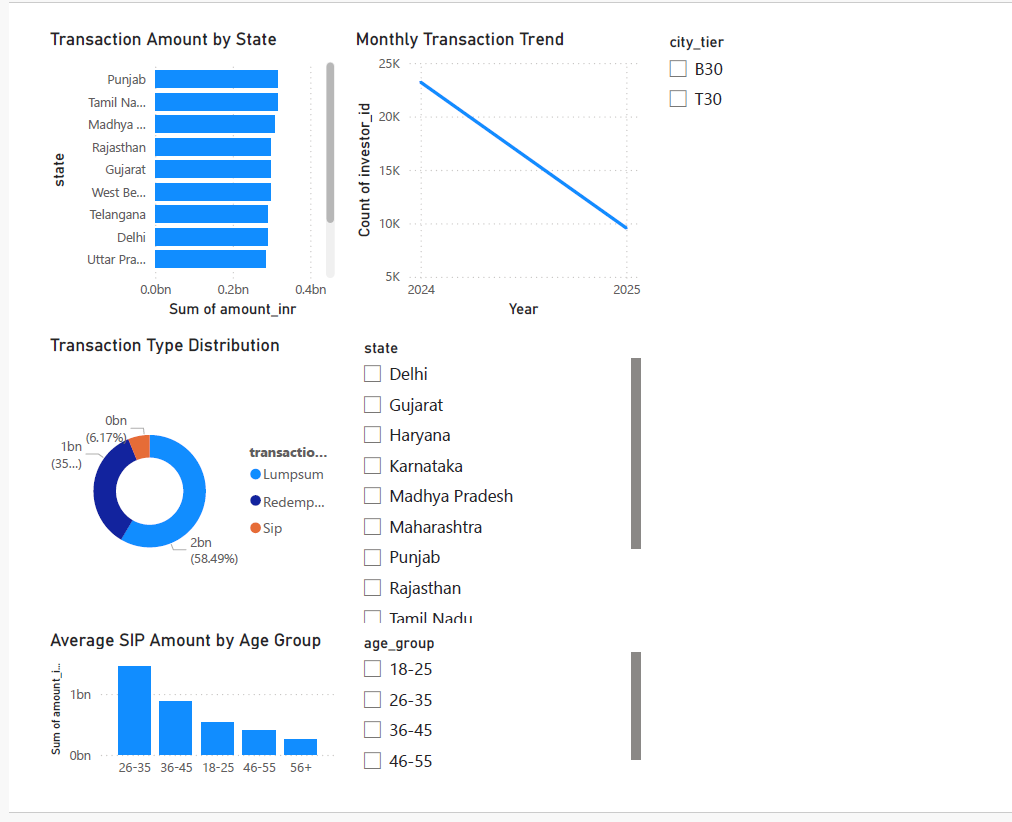

What the dashboard file says about the page in this screenshot:
{"tool":"powerbi","page":{"name":"Investor Analytics","canvas":[1280,720],"ordinal":2},"visuals":[{"type":"clusteredBarChart","title":"Transaction Amount by State","fields":{"Category":["investor_transactions_clean.state"],"Y":["Sum(investor_transactions_clean.amount_inr)"]},"box":[10,0,280,280],"z":0},{"type":"donutChart","title":"Transaction Type Distribution","fields":{"Category":["investor_transactions_clean.transaction_type"],"Y":["Sum(investor_transactions_clean.amount_inr)"]},"box":[10,290,280,280],"z":1},{"type":"clusteredColumnChart","title":"Average SIP Amount by Age Group","fields":{"Category":["investor_transactions_clean.age_group"],"Y":["Sum(investor_transactions_clean.amount_inr)"]},"box":[10,570,280,150],"z":2},{"type":"lineChart","title":"Monthly Transaction Trend","fields":{"Category":["investor_transactions_clean.transaction_date.Variation.Date Hierarchy.Year","investor_transactions_clean.transaction_date.Variation.Date Hierarchy.Quarter","investor_transactions_clean.transaction_date.Variation.Date Hierarchy.Month","investor_transactions_clean.transaction_date.Variation.Date Hierarchy.Day"],"Y":["CountNonNull(investor_transactions_clean.investor_id)"]},"box":[300,0,280,280],"z":3},{"type":"slicer","fields":{"Values":["investor_transactions_clean.state"]},"box":[300,290,280,280],"z":4},{"type":"slicer","fields":{"Values":["investor_transactions_clean.age_group"]},"box":[300,570,280,150],"z":5},{"type":"slicer","fields":{"Values":["investor_transactions_clean.city_tier"]},"box":[590,0,280,280],"z":6}]}

Visuals, with their boxes on the page's 1280x720 design canvas (x1, y1, x2, y2). These are canvas units, not pixel positions in the 1012x822 screenshot, which may show the page scaled, cropped or inside an application window:
"Transaction Amount by State" clusteredBarChart: {"x1": 10, "y1": 0, "x2": 290, "y2": 280}
"Transaction Type Distribution" donutChart: {"x1": 10, "y1": 290, "x2": 290, "y2": 570}
"Average SIP Amount by Age Group" clusteredColumnChart: {"x1": 10, "y1": 570, "x2": 290, "y2": 720}
"Monthly Transaction Trend" lineChart: {"x1": 300, "y1": 0, "x2": 580, "y2": 280}
slicer - investor_transactions_clean.state: {"x1": 300, "y1": 290, "x2": 580, "y2": 570}
slicer - investor_transactions_clean.age_group: {"x1": 300, "y1": 570, "x2": 580, "y2": 720}
slicer - investor_transactions_clean.city_tier: {"x1": 590, "y1": 0, "x2": 870, "y2": 280}
